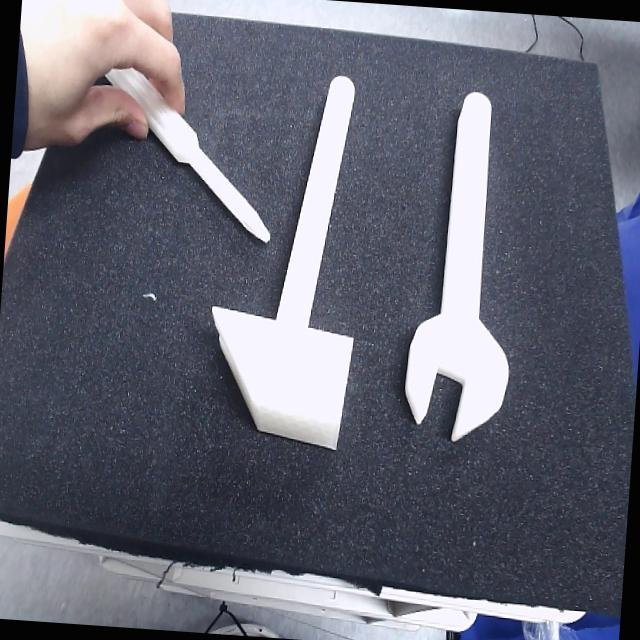Hammer: (210, 76, 354, 452)
Spanner: (403, 91, 509, 444)
